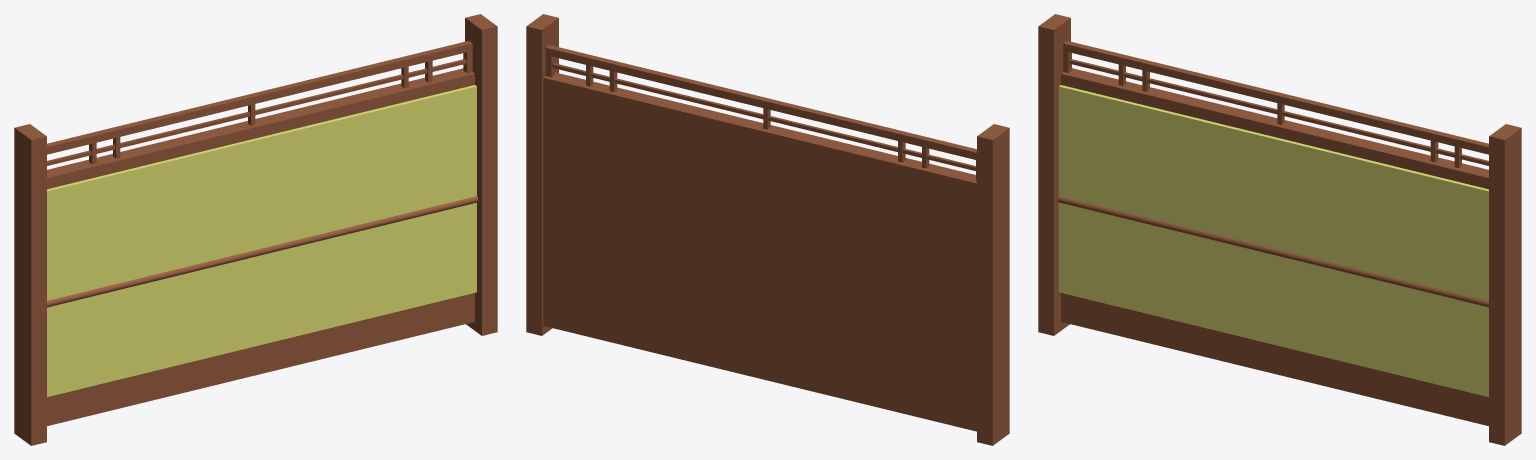
File: Fence.fbx
3 renders of one model, left to right at view 1: azimuth 30°, elevation 25°; view 2: azimuth 150°, elevation 25°; view 3: azimuth 330°, elevation 25°, orthographic.
Visible parts, largest first — view 1: Fence; view 2: Fence; view 3: Fence.
Boxes of the visible parts, bbox=[...] form: Fence: bbox=[14, 14, 497, 445]; Fence: bbox=[526, 14, 1009, 445]; Fence: bbox=[1038, 14, 1521, 445].
Bounding box in the file's own units: 9.24 × 5.79 × 0.5783.
